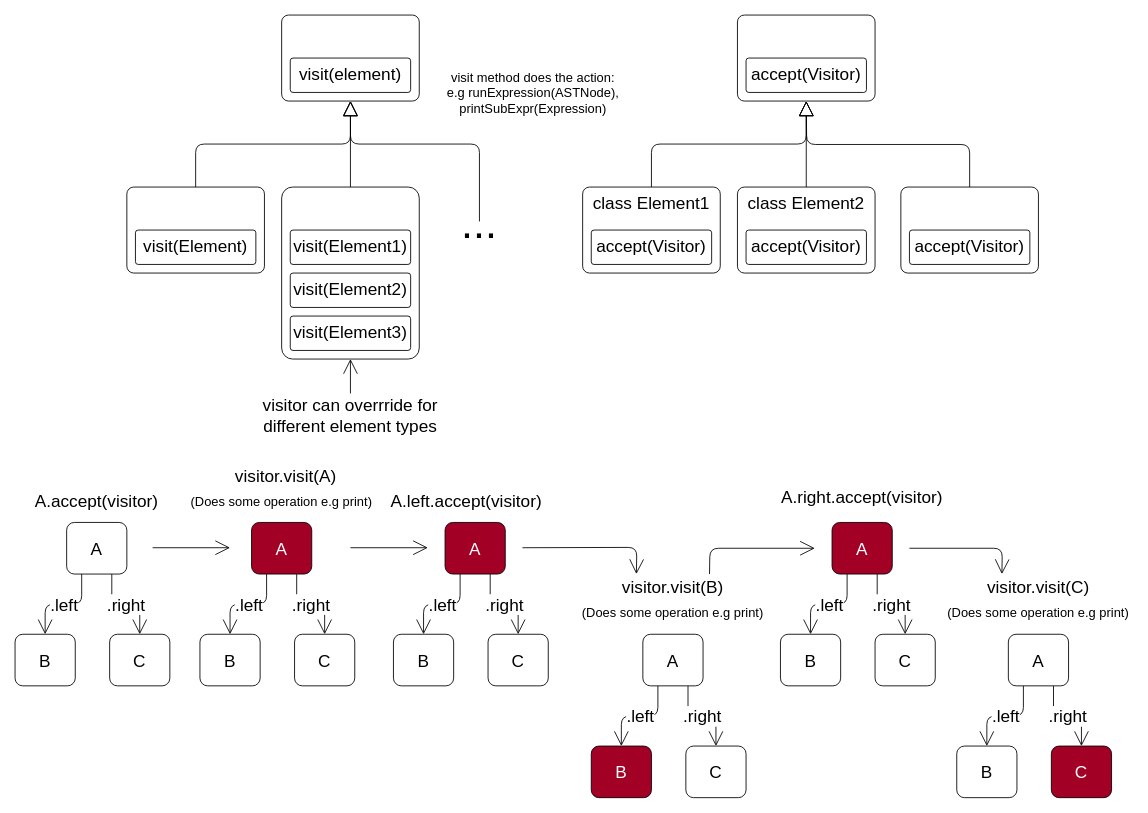
Some shapes in this 1148 by 813 pixel diagram are drawn without their labels. The shapes that lost their labels are listed below. From the top down, each one's box as (x1, y1, x2, y2) in pixels, then its label:
(281, 14, 419, 101): interface Visitor
(737, 14, 875, 101): interface Element
(126, 186, 264, 273): class Visitor1
(900, 186, 1038, 273): class Element3
(281, 186, 419, 359): class Visitor2
